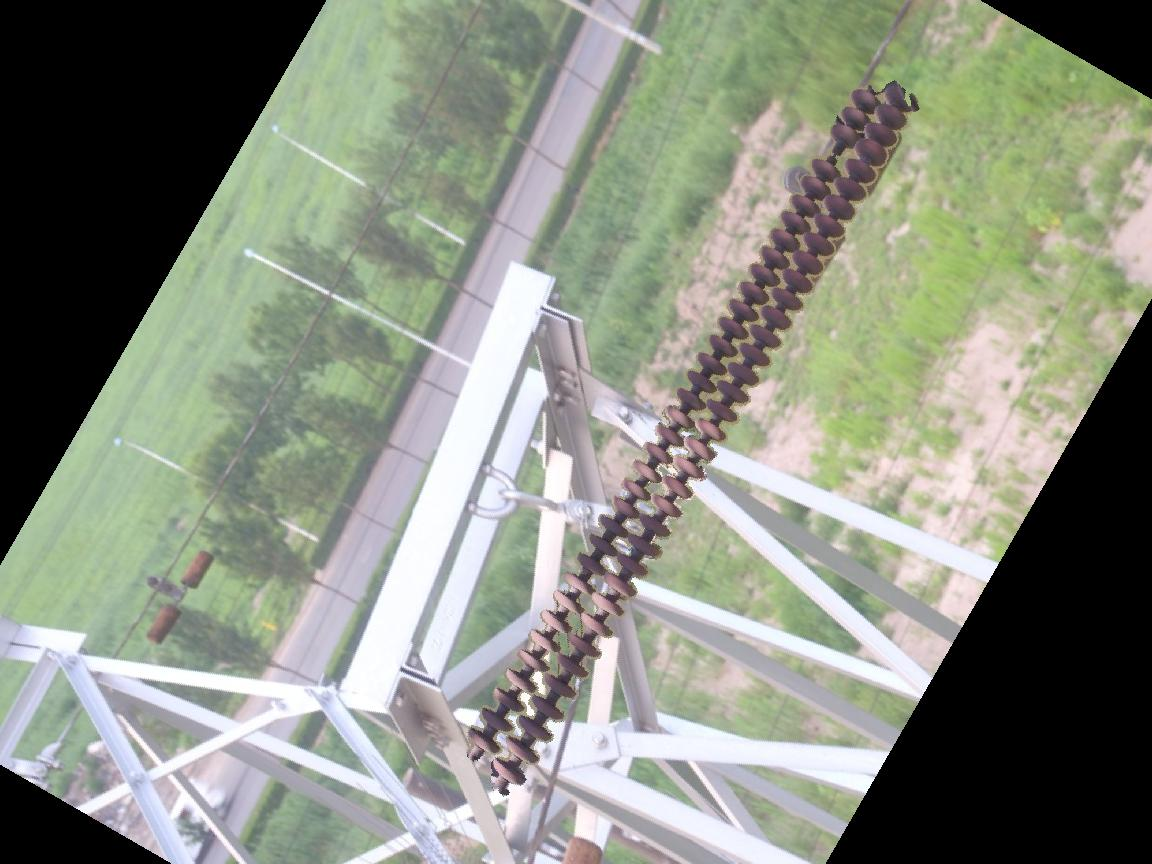insulator: (465, 73, 917, 793)
insulator_stringdrop: (809, 122, 860, 185)
